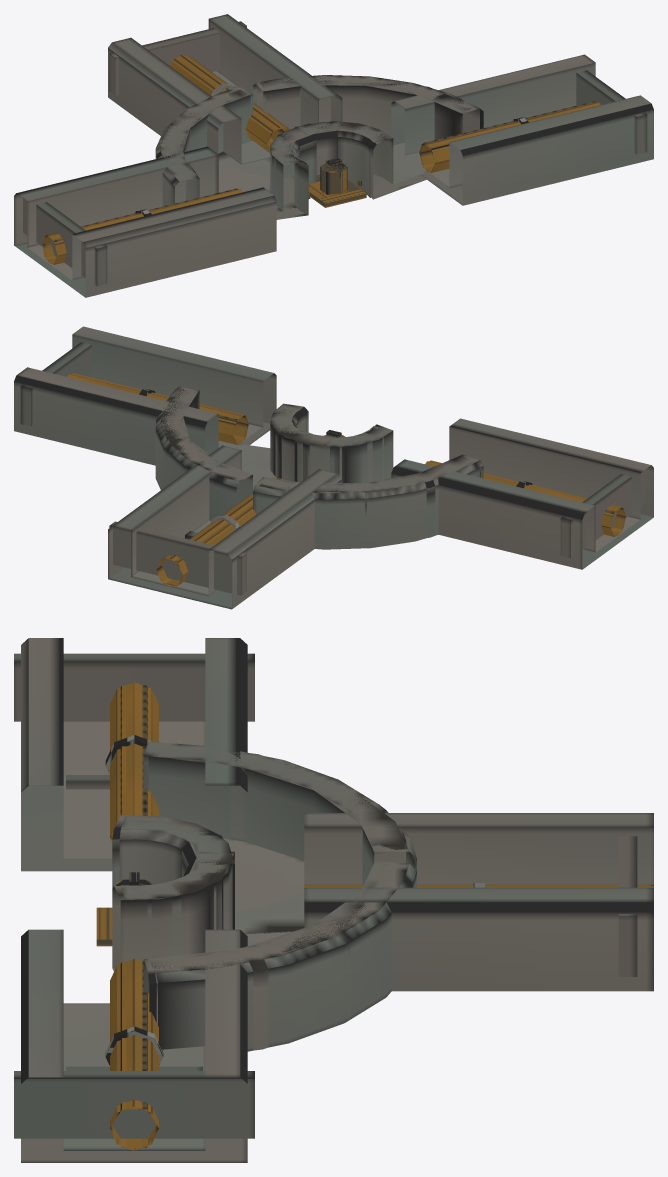
File: place_works_conduit_power_t.glb
The picture shows the model from 3 angles, top to bottom: view 1: azimuth 30°, elevation 25°; view 2: azimuth 150°, elevation 25°; view 3: azimuth 270°, elevation 25°; orthographic projection. The views are drawn at different scales.
Parts seen in each view (by area): view 1: LOD0_Merged_Material_Atlas, LOD1_Merged_Material_Atlas; view 2: LOD0_Merged_Material_Atlas, LOD1_Merged_Material_Atlas; view 3: LOD0_Merged_Material_Atlas, LOD1_Merged_Material_Atlas.
Boxes of the visible parts, left/top/right/bottom form: LOD0_Merged_Material_Atlas: left=14, top=14, right=653, bottom=297; LOD1_Merged_Material_Atlas: left=42, top=55, right=595, bottom=264; LOD0_Merged_Material_Atlas: left=14, top=326, right=653, bottom=609; LOD1_Merged_Material_Atlas: left=72, top=373, right=625, bottom=586; LOD0_Merged_Material_Atlas: left=14, top=638, right=653, bottom=1162; LOD1_Merged_Material_Atlas: left=110, top=685, right=653, bottom=1147.
Size of the model in its own units: 2.2 by 0.2 by 1.36.
1 material, 1 textured.
